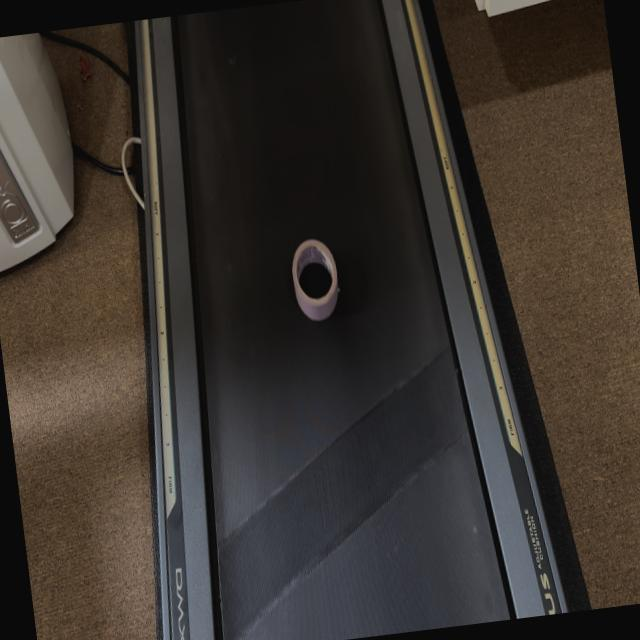Trash: (288, 237, 344, 323)
